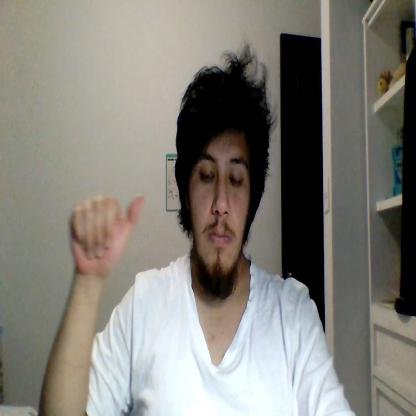A: (69, 193, 145, 276)
